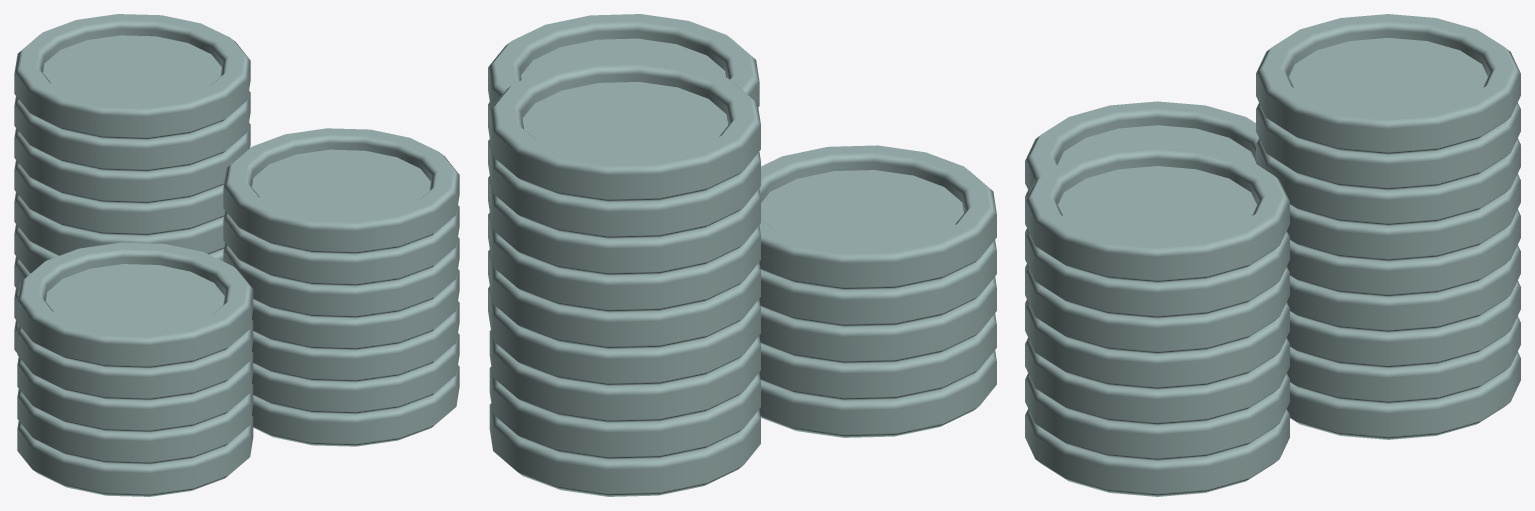
Rendered from coinpile2notex.fbx.
3 views of the same model, side by side, from view 1: azimuth 30°, elevation 25°; view 2: azimuth 150°, elevation 25°; view 3: azimuth 270°, elevation 25° (orthographic). The views are drawn at different scales.
Parts seen in each view (by area): view 1: coinpile2notex; view 2: coinpile2notex; view 3: coinpile2notex.
Boxes of the visible parts, bbox=[...] form: coinpile2notex: bbox=[14, 14, 459, 496]; coinpile2notex: bbox=[488, 14, 996, 496]; coinpile2notex: bbox=[1025, 14, 1520, 496].
Bounding box in the file's own units: 0.5998 × 0.4001 × 0.5615.
